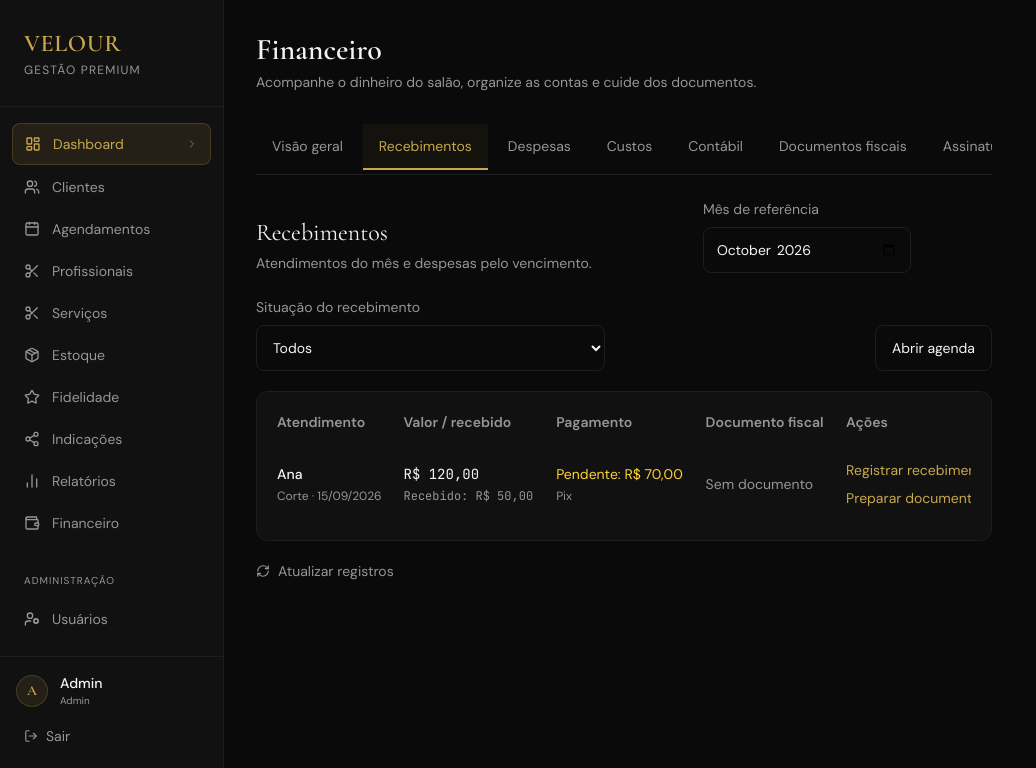
conecta o atendimento ao documento e confirma somente o recebimento
What coordinates should you click on to do the following:
click the button "Registrar recebimento"
I would click on:
 (918, 470)
Its box is [846,460,990,480].
(page scrolled)
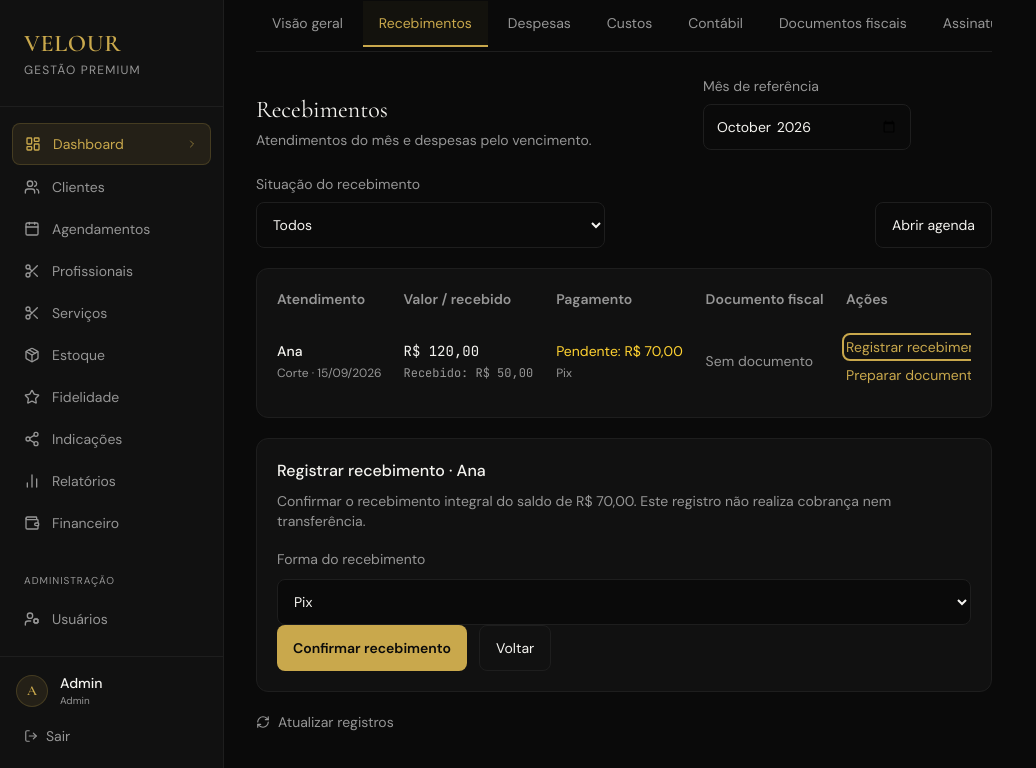
What coordinates should you click on to do the following:
click the button "Confirmar recebimento"
I would click on:
 (372, 648)
Its box is [277,625,467,671].
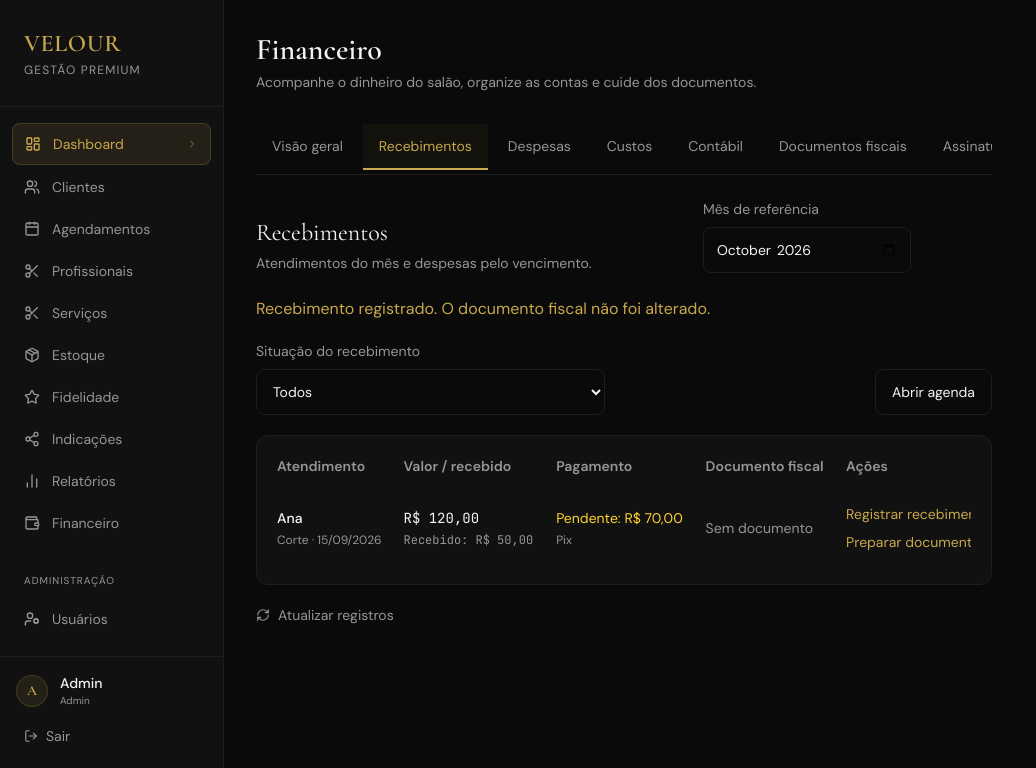
Now the text "Recebimento registrado. O documento fiscal não foi alterado." is shown, box [256,298,710,319]
